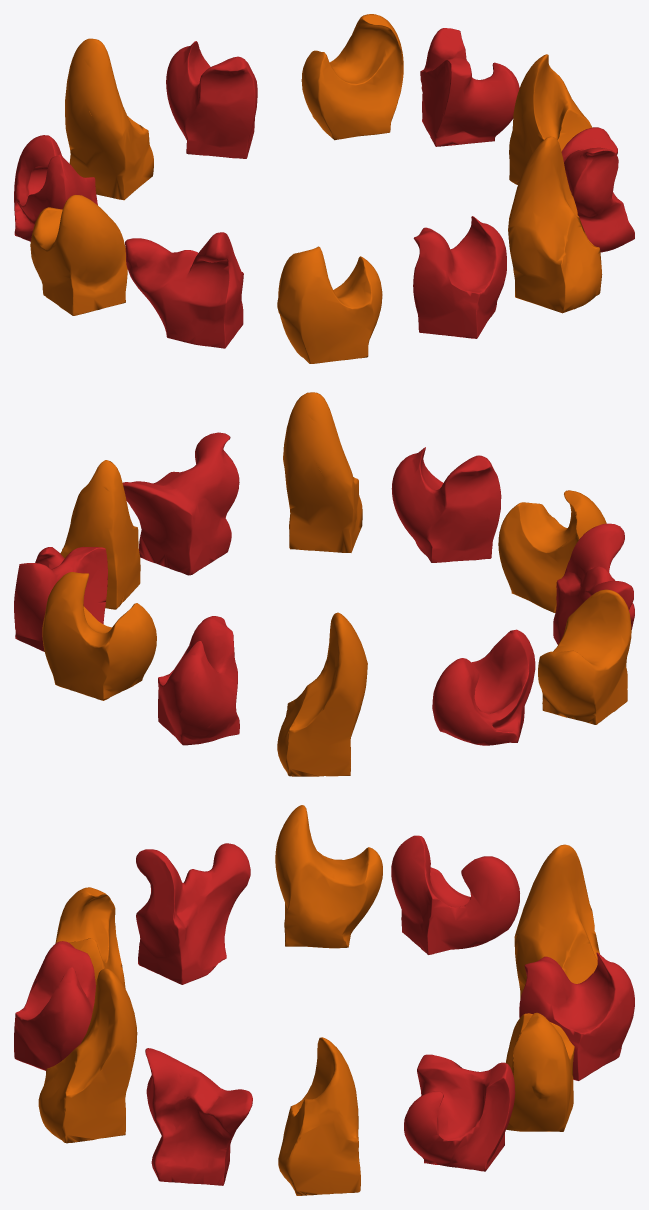
The model's file is ams_flames.gltf.
3 views of the same model, one above another, from view 1: azimuth 30°, elevation 25°; view 2: azimuth 150°, elevation 25°; view 3: azimuth 270°, elevation 25° (orthographic). The views are drawn at different scales.
Visible parts, largest first — view 1: Layer_1.003, Layer_1.006, Layer_1.009, Layer_1.011, Layer_1.005, Layer_1, Layer_1.007, Layer_1.010, Layer_1.002, Layer_1.008, Layer_1.001, Layer_1.004; view 2: Layer_1.008, Layer_1.003, Layer_1.011, Layer_1.007, Layer_1, Layer_1.009, Layer_1.004, Layer_1.010, Layer_1.005, Layer_1.001, Layer_1.002, Layer_1.006; view 3: Layer_1.006, Layer_1.003, Layer_1.004, Layer_1.002, Layer_1.008, Layer_1, Layer_1.001, Layer_1.010, Layer_1.009, Layer_1.007, Layer_1.011, Layer_1.005.
Boxes of the visible parts, x1,y1,x2,y2 form: Layer_1.003: [508, 136, 602, 313]; Layer_1.006: [125, 232, 243, 348]; Layer_1.009: [65, 38, 153, 200]; Layer_1.011: [301, 14, 403, 140]; Layer_1.005: [277, 246, 382, 363]; Layer_1: [30, 194, 127, 315]; Layer_1.007: [413, 216, 506, 338]; Layer_1.010: [166, 41, 257, 158]; Layer_1.002: [420, 28, 519, 146]; Layer_1.008: [561, 127, 634, 252]; Layer_1.001: [509, 54, 592, 184]; Layer_1.004: [14, 135, 97, 241]; Layer_1.008: [122, 432, 239, 575]; Layer_1.003: [283, 392, 362, 552]; Layer_1.011: [42, 572, 156, 700]; Layer_1.007: [391, 447, 501, 562]; Layer_1: [538, 589, 631, 724]; Layer_1.009: [277, 612, 367, 776]; Layer_1.004: [432, 629, 535, 745]; Layer_1.010: [158, 616, 239, 745]; Layer_1.005: [498, 490, 606, 612]; Layer_1.001: [60, 460, 140, 609]; Layer_1.002: [14, 546, 107, 651]; Layer_1.006: [553, 523, 634, 644]; Layer_1.006: [136, 843, 250, 984]; Layer_1.003: [38, 968, 137, 1143]; Layer_1.004: [391, 835, 519, 954]; Layer_1.002: [404, 1054, 515, 1171]; Layer_1.008: [145, 1048, 252, 1185]; Layer_1: [275, 805, 382, 948]; Layer_1.001: [278, 1037, 360, 1195]; Layer_1.010: [519, 952, 634, 1080]; Layer_1.009: [514, 844, 599, 998]; Layer_1.007: [14, 941, 95, 1070]; Layer_1.011: [505, 1012, 574, 1131]; Layer_1.005: [55, 887, 125, 988].
Size of the model in its own units: 2.63 by 0.7043 by 2.46.
